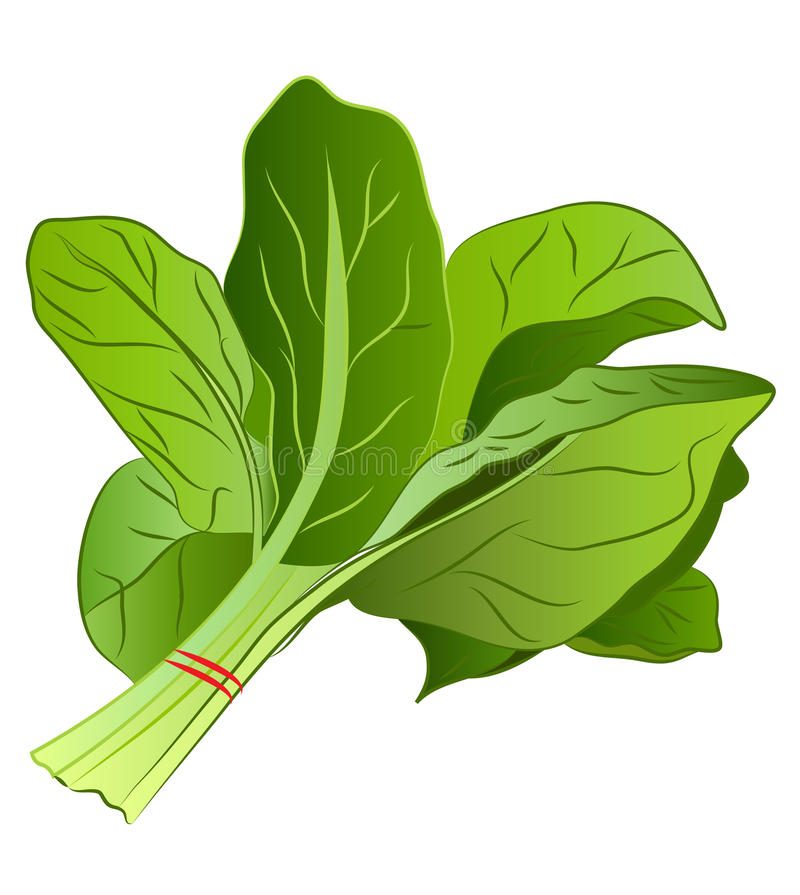Bayam: (46, 58, 717, 842)
